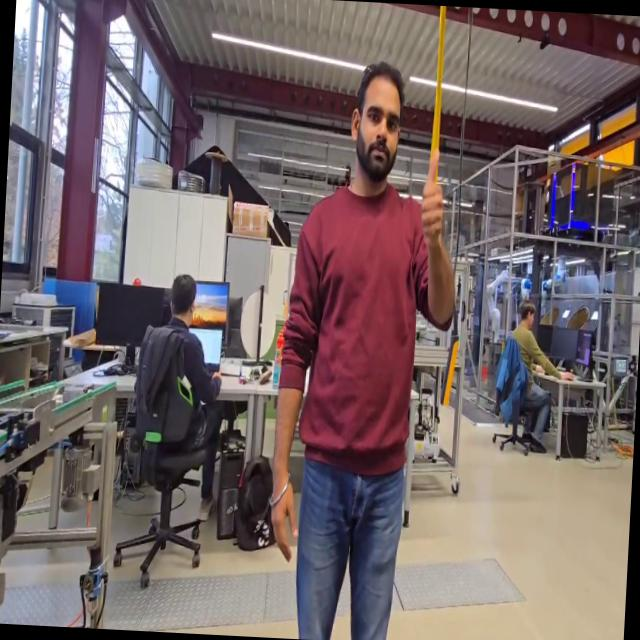thumbs_up: (416, 143, 451, 249)
